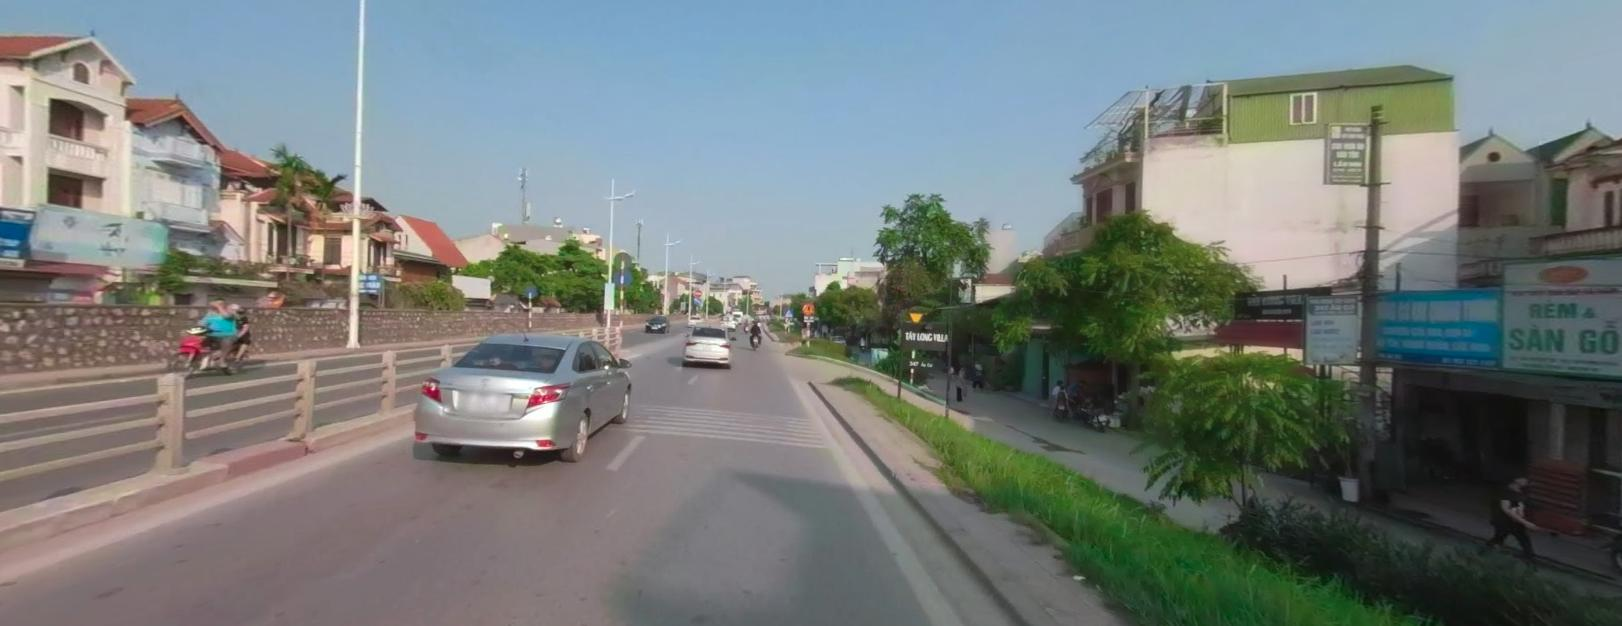Cam nguoc chieu: (694, 288, 701, 294)
Hieu lenh: (693, 295, 700, 302)
Nguy hiem: (907, 309, 923, 323), (802, 303, 815, 315)
